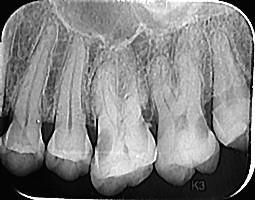individual-tooth-8tto: (91, 45, 158, 195), (151, 48, 222, 186), (0, 25, 53, 175), (45, 35, 94, 177), (211, 30, 251, 150)
